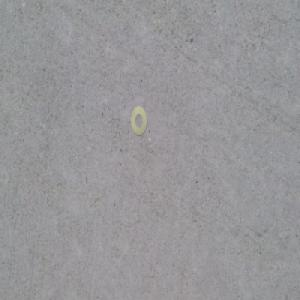Washer: (129, 106, 146, 137)
